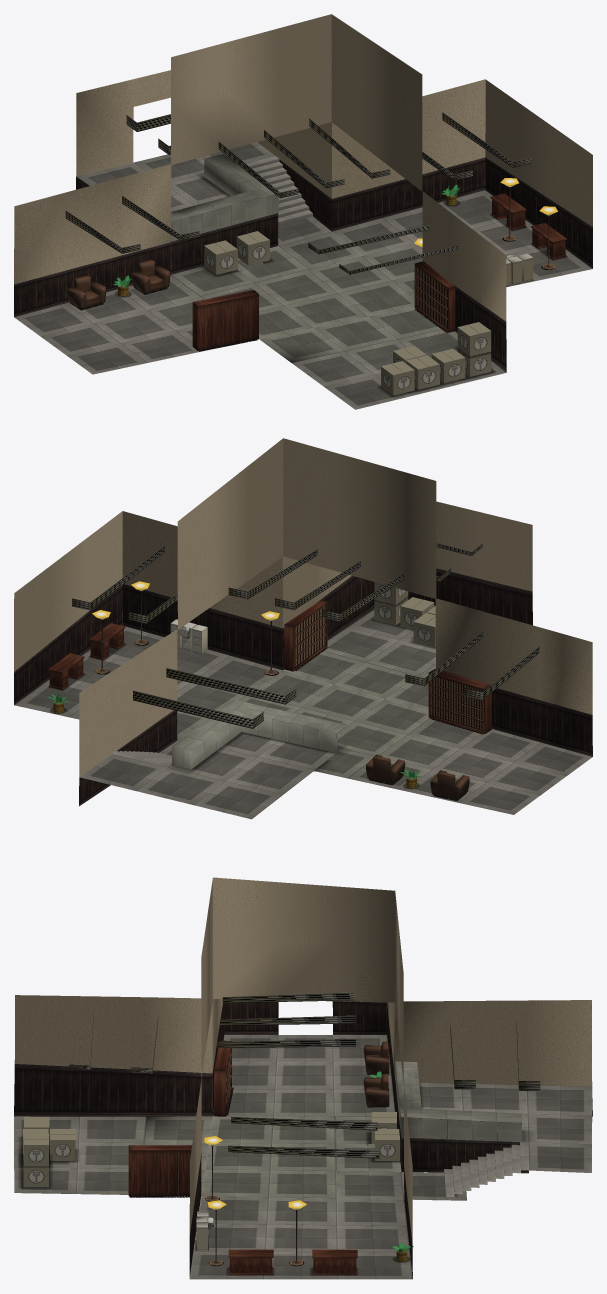
File: room_105.glb
3 renders of one model, top to bottom at view 1: azimuth 30°, elevation 25°; view 2: azimuth 150°, elevation 25°; view 3: azimuth 270°, elevation 25°, orthographic. The views are drawn at different scales.
Visible parts, largest first — view 1: wall, floor, wall22, CBMetalBoxSides (×7), Borders, pCube1 (×2), platform_wall, LB_chairA (×2), stairs, polySurface1, Lights6, Lights11 (+6 smaller); view 2: wall, floor, wall22, Borders, polySurface1 (×2), pCube1 (×2), LB_chairA (×2), Lights9, Lights10, Lights6, Lights4, Lights3 (+6 smaller); view 3: floor, wall, wall22, Borders, pCube1 (×2), platform_wall, stairs, CBMetalBoxSides (×3), LB_chairA (×2), polySurface2 (×2), Lights6, Lights7 (+3 smaller).
Boxes of the visible parts, box(x1,y1,x2,y2) form: wall: box(14, 14, 592, 321); floor: box(14, 142, 592, 409); wall22: box(14, 157, 592, 372); CBMetalBoxSides (×7): box(204, 237, 491, 395); Borders: box(170, 154, 278, 241); pCube1 (×2): box(192, 261, 455, 350); platform_wall: box(171, 213, 278, 274); LB_chairA (×2): box(67, 259, 170, 309); stairs: box(246, 156, 312, 225); polySurface1: box(416, 266, 447, 328); Lights6: box(442, 112, 531, 167); Lights11: box(308, 225, 429, 254); wall: box(14, 438, 592, 776); floor: box(14, 610, 592, 819); wall22: box(14, 568, 592, 806); Borders: box(171, 699, 347, 769); polySurface1 (×2): box(294, 605, 483, 731); pCube1 (×2): box(284, 600, 491, 733); LB_chairA (×2): box(366, 754, 469, 800); Lights9: box(133, 690, 263, 728); Lights10: box(166, 668, 296, 704); Lights6: box(72, 546, 164, 610); Lights4: box(228, 549, 317, 599); Lights3: box(275, 561, 360, 610); floor: box(14, 1035, 592, 1279); wall: box(14, 877, 592, 1243); wall22: box(14, 1001, 592, 1278); Borders: box(395, 1061, 522, 1141); pCube1 (×2): box(128, 1040, 231, 1196); platform_wall: box(395, 1085, 528, 1173); stairs: box(444, 1142, 529, 1199); CBMetalBoxSides (×3): box(23, 1140, 75, 1187); LB_chairA (×2): box(363, 1041, 389, 1107); polySurface2 (×2): box(229, 1258, 356, 1273); Lights6: box(228, 1145, 379, 1158); Lights7: box(231, 1116, 377, 1130).
Size of the model in its own units: 135 by 61.47 by 135.
26 materials, 26 textured.
